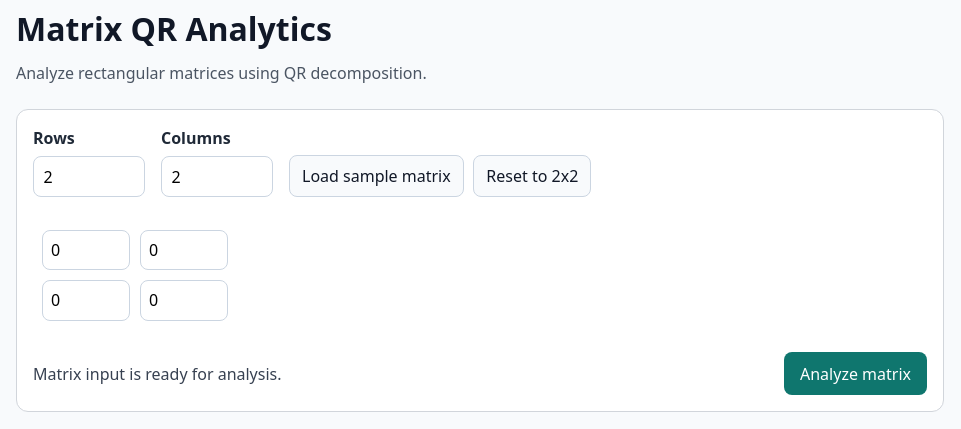
App › loads a 2x3 sample matrix with expected values
What coordinates should you click on to do the following:
click the button "Load sample matrix"
I would click on:
 (376, 176)
Its box is [289,155,464,197].
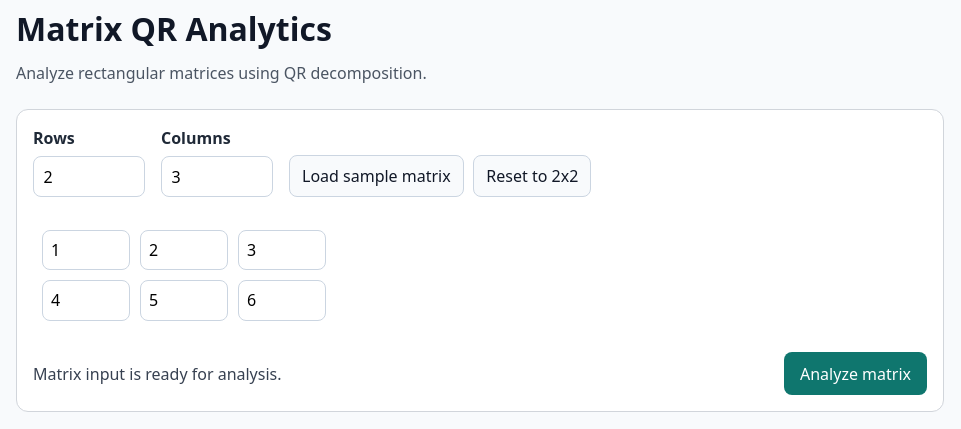
Expected: the number of fields is 6, [42,230,130,270]; [140,230,228,270]; [238,230,326,270]; [42,280,130,320]; [140,280,228,320]; [238,280,326,320]
Expected: the 1st field named "Cell row 1, column 1" holds "1", [42,230,130,270]
Expected: the 2nd field named "Cell row 1, column 2" holds "2", [140,230,228,270]
